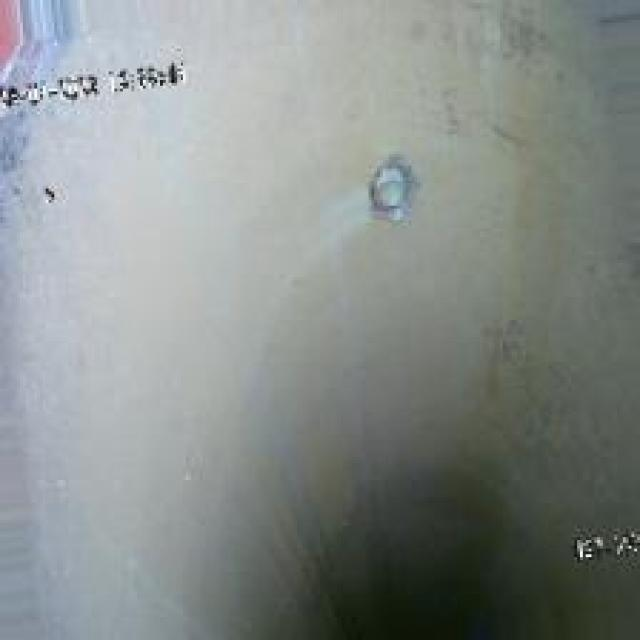ferrule: (360, 154, 417, 220)
